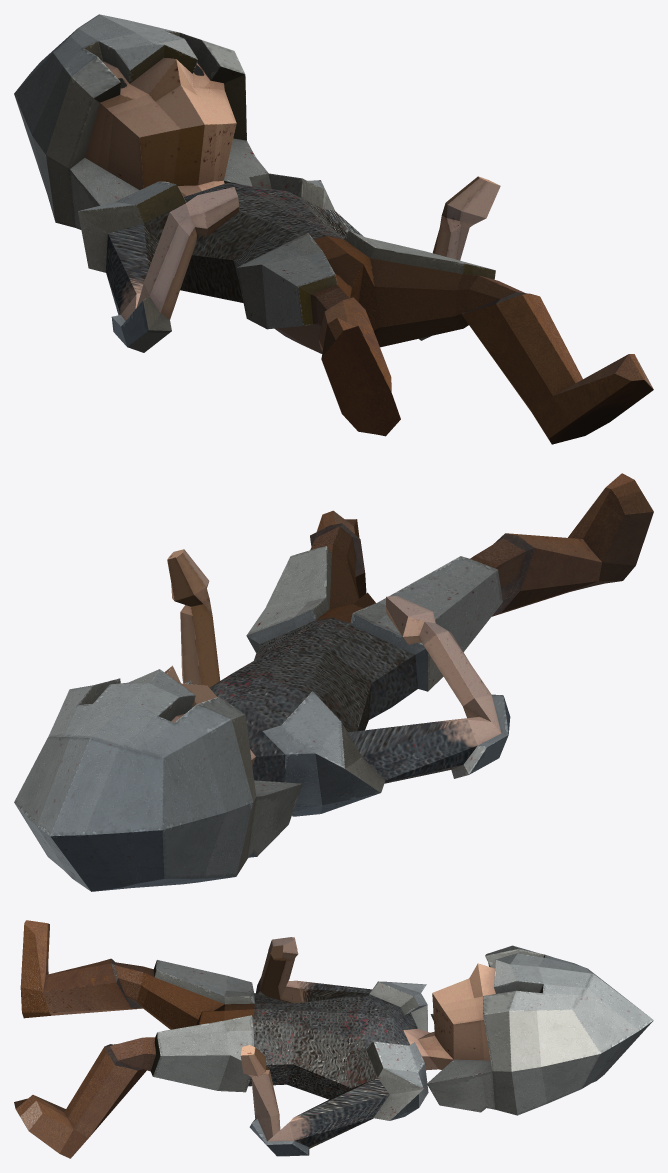
Rendered from Walk_Soldier_8.obj.
3 renders of one model, top to bottom at view 1: azimuth 30°, elevation 25°; view 2: azimuth 150°, elevation 25°; view 3: azimuth 270°, elevation 25°, orthographic. The views are drawn at different scales.
Visible parts, largest first — view 1: Soldado_LowPolySTD; view 2: Soldado_LowPolySTD; view 3: Soldado_LowPolySTD.
Part boxes in pixels (x1,y1,x2,y2): Soldado_LowPolySTD: [14, 14, 653, 444]; Soldado_LowPolySTD: [14, 473, 653, 891]; Soldado_LowPolySTD: [14, 920, 653, 1158].
Bounding box in the file's own units: 0.7651 × 0.4361 × 1.61.
